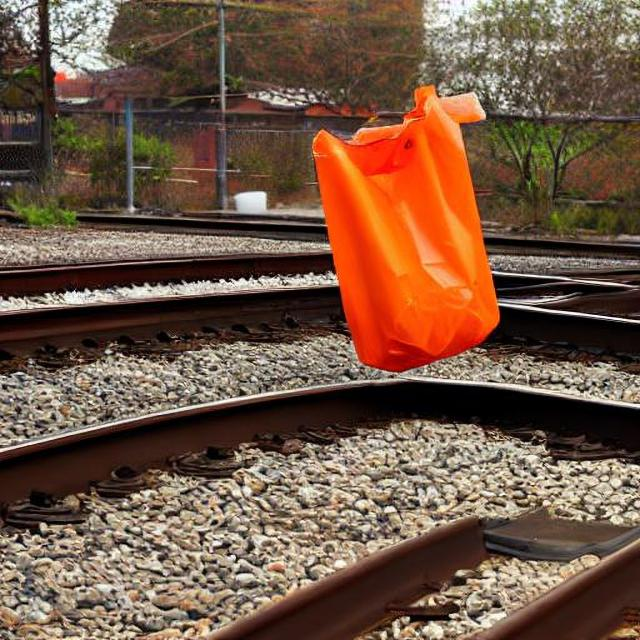plastic bag: (315, 86, 499, 372)
